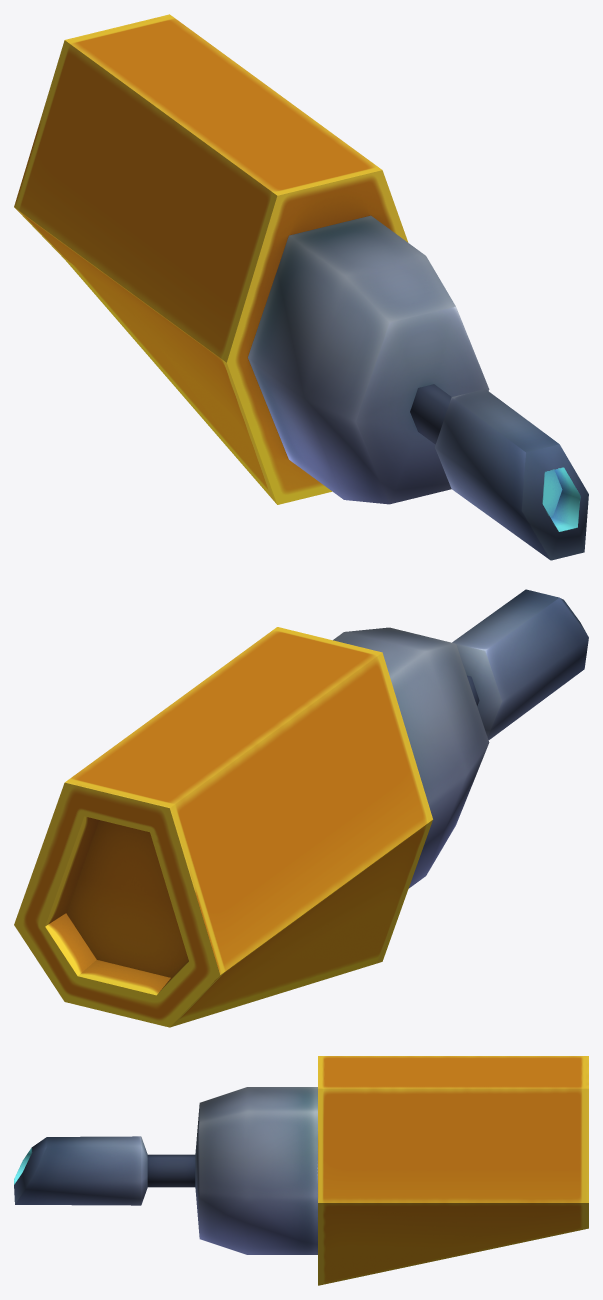
The model's file is weapon_Phaser.fbx.
3 renders of one model, top to bottom at view 1: azimuth 30°, elevation 25°; view 2: azimuth 150°, elevation 25°; view 3: azimuth 270°, elevation 25°, orthographic. The views are drawn at different scales.
Parts seen in each view (by area): view 1: phaser_attachment, phaser_barrel; view 2: phaser_attachment, phaser_barrel; view 3: phaser_attachment, phaser_barrel.
Part boxes in pixels (x1,y1,x2,y2): phaser_attachment: [14, 14, 408, 504]; phaser_barrel: [248, 215, 588, 560]; phaser_attachment: [14, 627, 432, 1027]; phaser_barrel: [333, 589, 588, 888]; phaser_attachment: [318, 1056, 588, 1285]; phaser_barrel: [14, 1087, 317, 1254].
Size of the model in its own units: 0.3972 by 0.5689 by 1.5.
